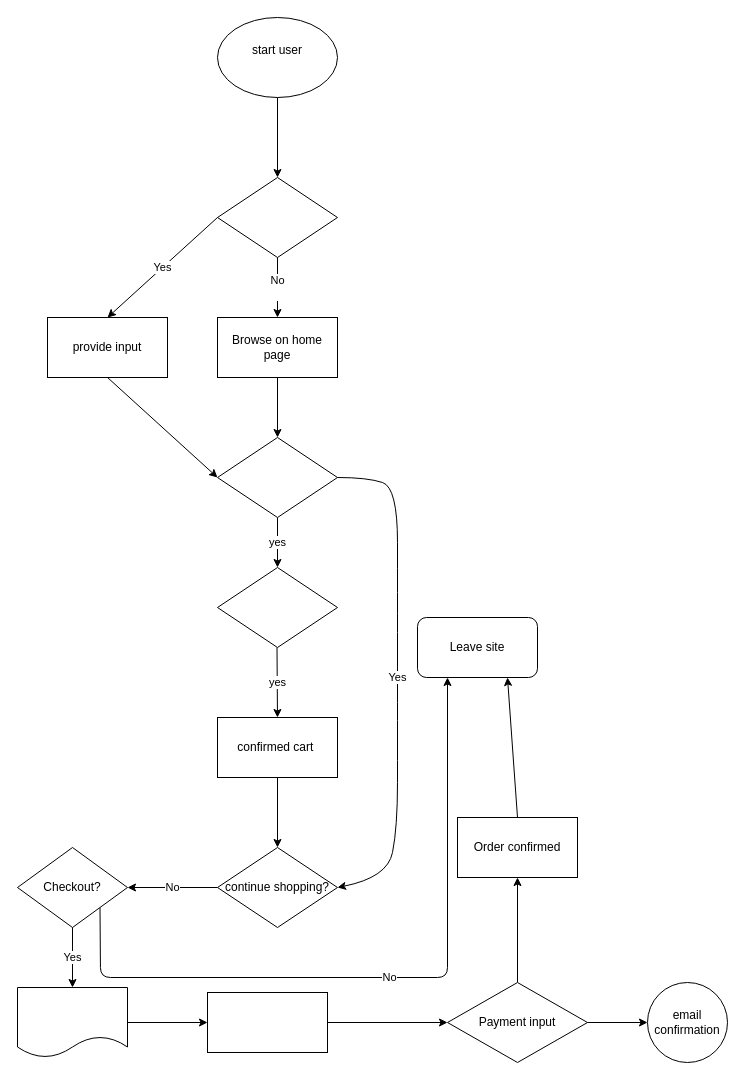
The diagram is 745 pixels wide and 1080 high, and some of its shapes have lost their labels. The centre of each missing label's shape, as x and y in pixels:
add to cart?: the point at 277,607
Cart: the point at 72,1022
Payment screen: the point at 267,1022
search for product?: the point at 277,217
view product?: the point at 277,477
